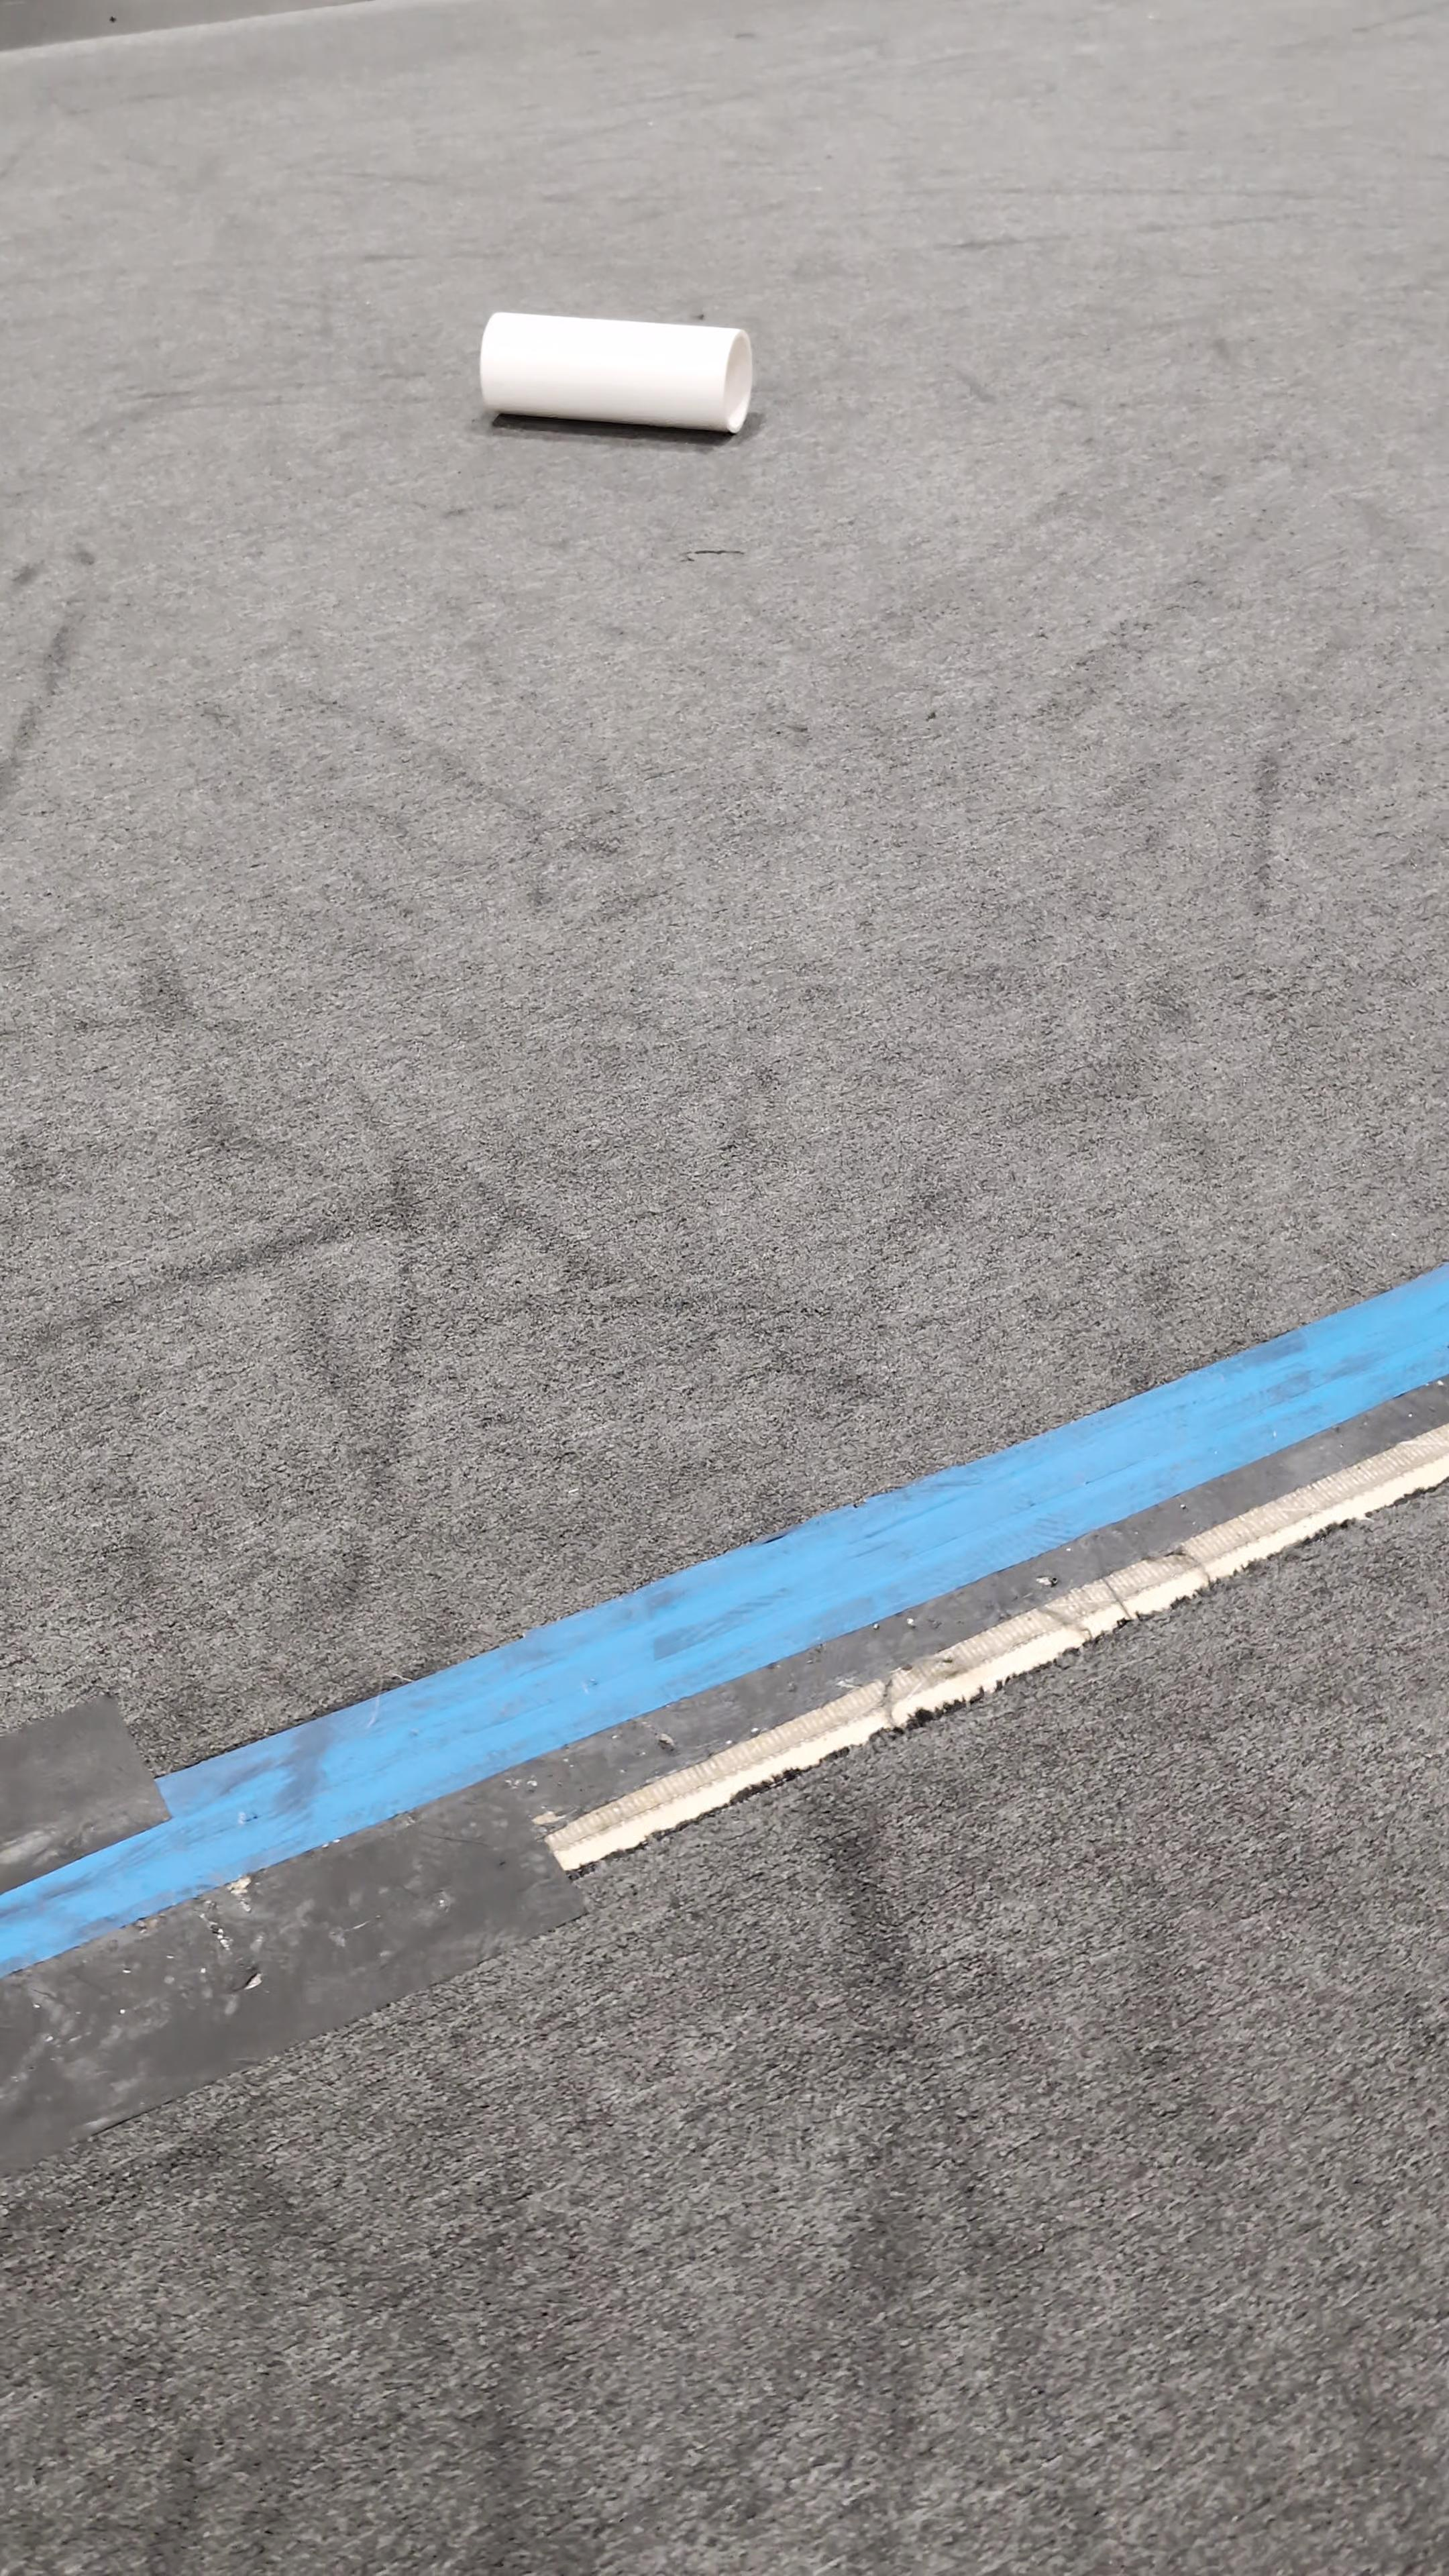coral: (478, 306, 755, 435)
